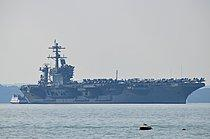MIL_Ship: (19, 39, 205, 104)
